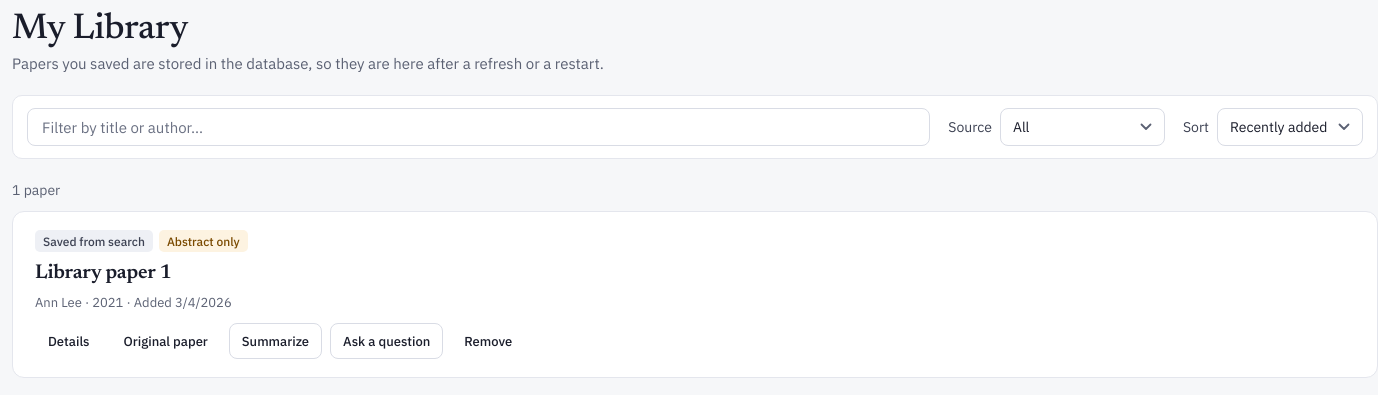
it: LibraryPage › says when filters match nothing and clears them
Later steps or results of the test are not shown.
expect the link "Library paper 1" is shown: met, box [35, 263, 172, 283]
Select "Uploaded PDFs" in the dropdown labelled "Source" at (1082, 127), box [1000, 108, 1165, 146]
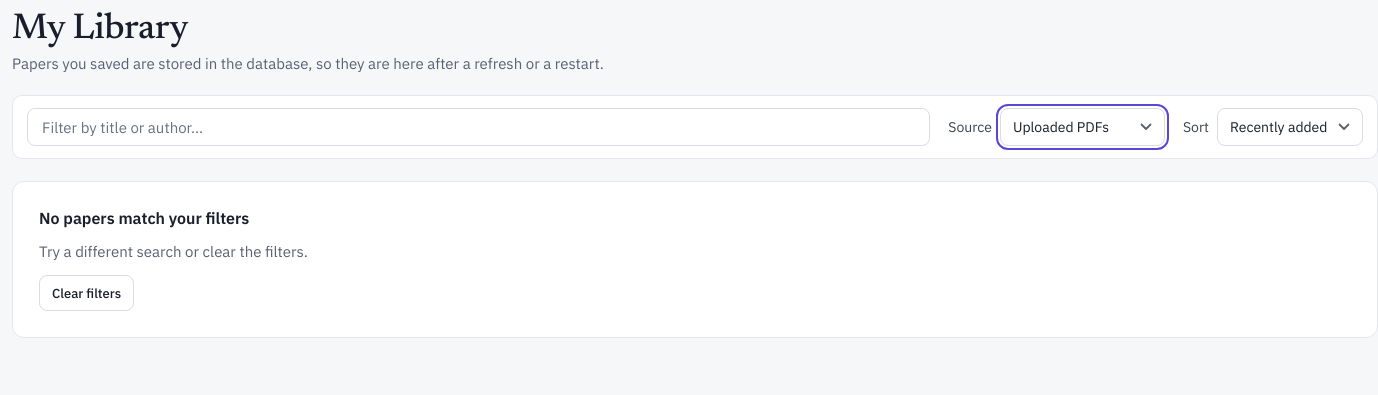
expect the heading "No papers match your filters" is shown: met, box [39, 208, 249, 228]
